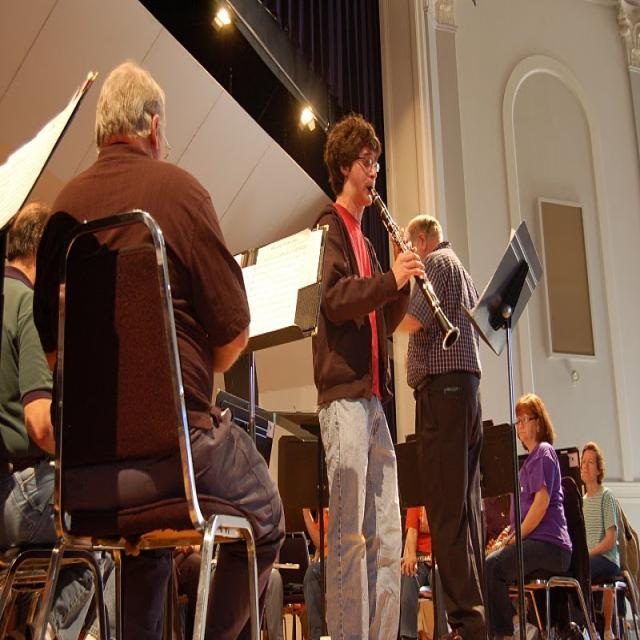clarinet: (365, 183, 461, 351)
